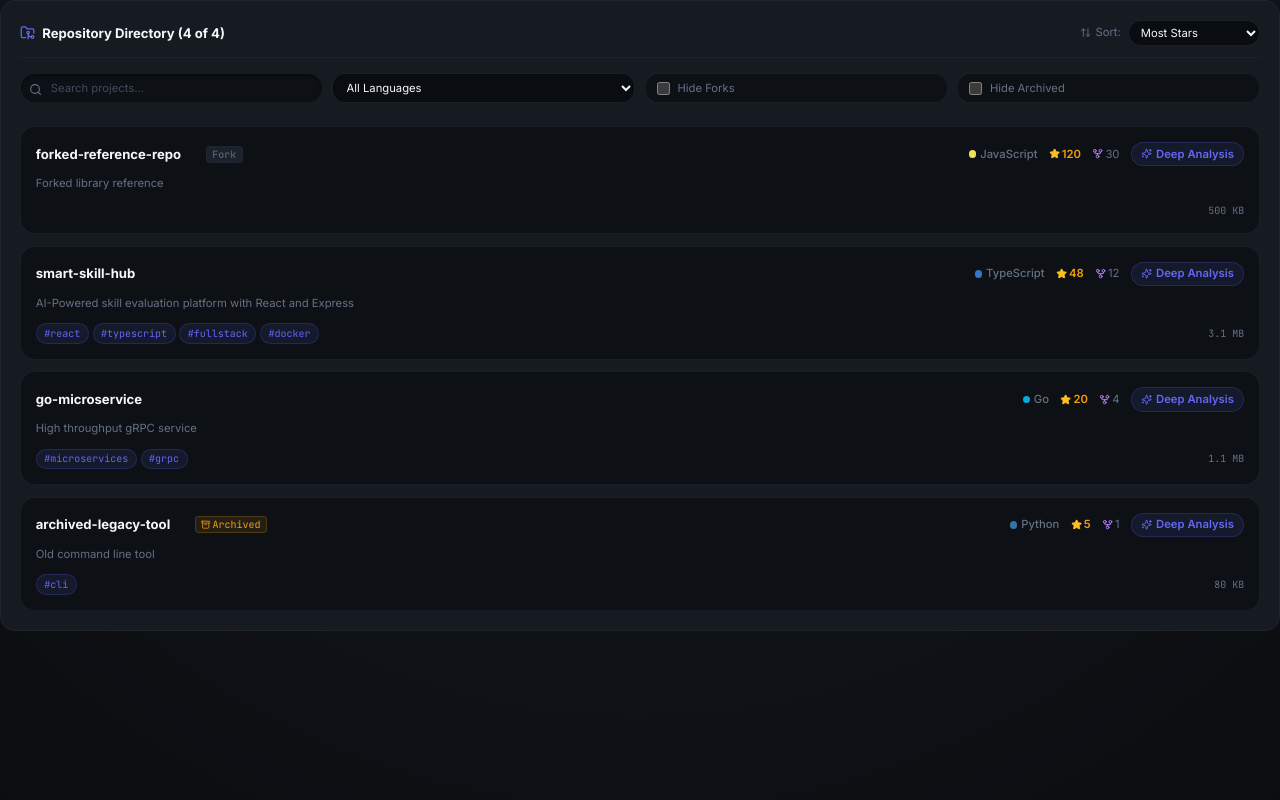
Test case: GitHub Intelligence Hub & Full Git Reviewer Integration Suite › 5. RepoAnalysis Component › filters repositories by search term and hide flags
expect the link "smart-skill-hub" is shown: met, box [36,264,152,283]
expect the link "go-microservice" is shown: met, box [36,390,159,409]
// Filter by search
In the field with placeholder "Search projects...": (171, 88) [20,73,323,103], type "microservice"
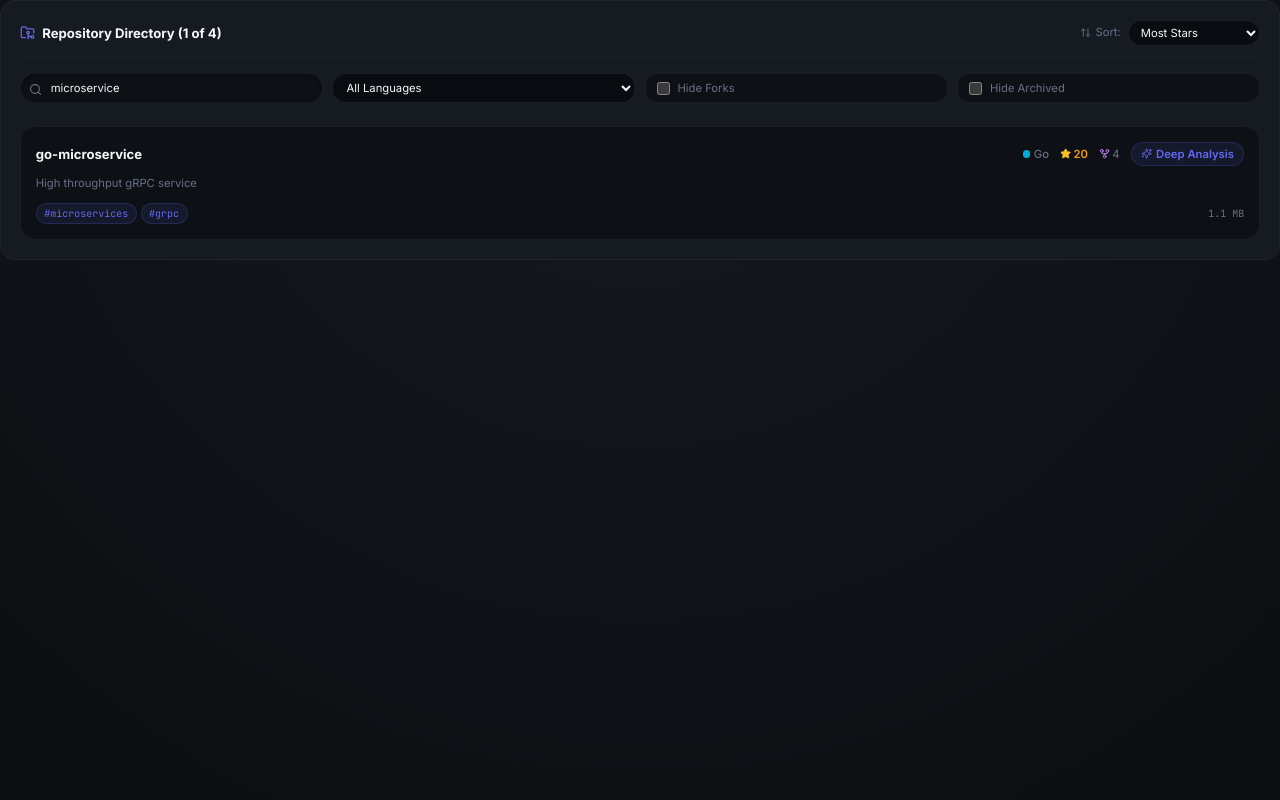
expect the link "go-microservice" is shown: met, box [36,145,159,163]
expect the link "smart-skill-hub" is gone: met
